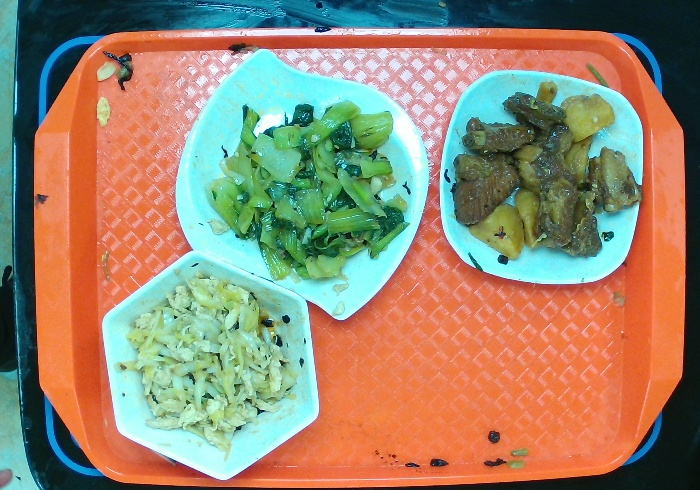RJxy-Liu_Jiao_Wan: (98, 248, 326, 483)
RJxy-Shuang_Jiao_Pan: (168, 47, 432, 328)
RJxy-Si_Fang_Wan: (431, 65, 649, 292)
